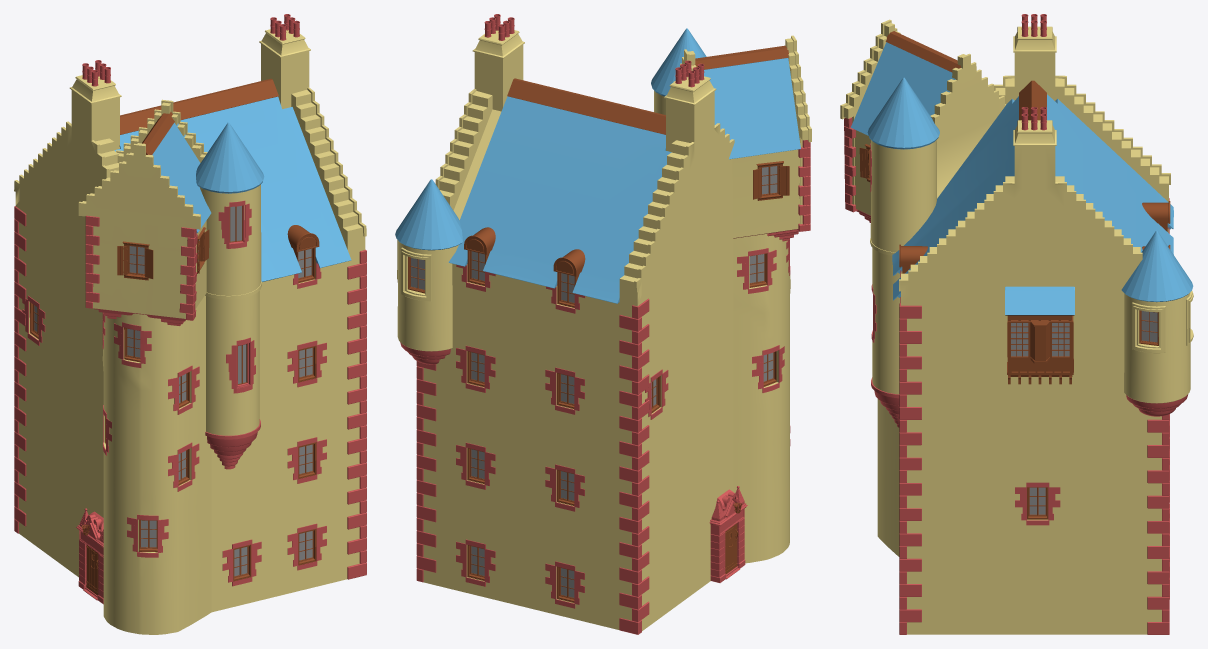
The model's file is muwu17.FBX.
3 views of the same model, side by side, from view 1: azimuth 30°, elevation 25°; view 2: azimuth 150°, elevation 25°; view 3: azimuth 270°, elevation 25° (orthographic).
Parts seen in each view (by area): view 1: HouseCastle_Stone_Stacked, HouseCastle_PlasterBrown, HouseCastle_RoofTiles, HouseCastle_Metal_Pitted, HouseCastle_Glass, HouseCastle_Mullions_Wood, HouseCastle_WoodDark; view 2: HouseCastle_Stone_Stacked, HouseCastle_RoofTiles, HouseCastle_PlasterBrown, HouseCastle_Metal_Pitted, HouseCastle_Glass, HouseCastle_Mullions_Wood, HouseCastle_WoodDark; view 3: HouseCastle_Stone_Stacked, HouseCastle_RoofTiles, HouseCastle_PlasterBrown, HouseCastle_WoodDark, HouseCastle_Metal_Pitted, HouseCastle_Glass, HouseCastle_Mullions_Wood.
Boxes of the visible parts, x1,y1,x2,y2 form: HouseCastle_Stone_Stacked: [14, 29, 366, 634]; HouseCastle_PlasterBrown: [14, 14, 366, 604]; HouseCastle_RoofTiles: [114, 96, 351, 281]; HouseCastle_Metal_Pitted: [81, 78, 319, 588]; HouseCastle_Glass: [34, 205, 312, 576]; HouseCastle_Mullions_Wood: [29, 205, 316, 581]; HouseCastle_WoodDark: [86, 227, 209, 595]; HouseCastle_Stone_Stacked: [397, 30, 811, 630]; HouseCastle_RoofTiles: [395, 28, 800, 303]; HouseCastle_PlasterBrown: [400, 14, 810, 634]; HouseCastle_Metal_Pitted: [464, 45, 788, 569]; HouseCastle_Glass: [411, 166, 777, 597]; HouseCastle_Mullions_Wood: [408, 166, 777, 602]; HouseCastle_WoodDark: [467, 161, 789, 573]; HouseCastle_Stone_Stacked: [840, 19, 1193, 634]; HouseCastle_RoofTiles: [851, 42, 1193, 315]; HouseCastle_PlasterBrown: [844, 14, 1188, 634]; HouseCastle_WoodDark: [859, 144, 1073, 384]; HouseCastle_Metal_Pitted: [868, 31, 1170, 267]; HouseCastle_Glass: [1011, 311, 1157, 514]; HouseCastle_Mullions_Wood: [902, 223, 1167, 519].
Size of the model in its own units: 14.56 by 23.49 by 14.58.
